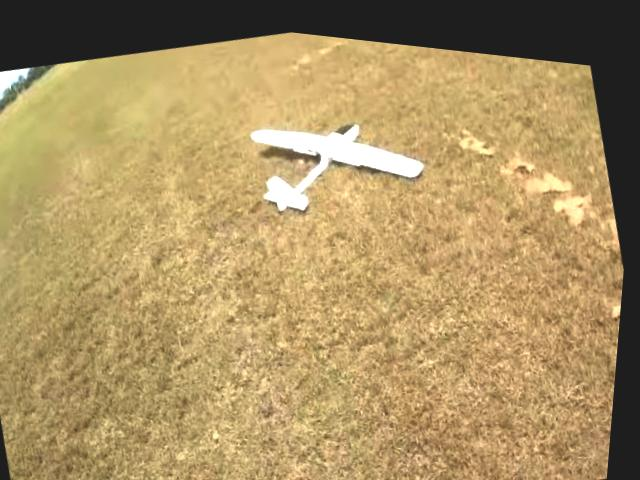uav: (236, 72, 445, 237)
